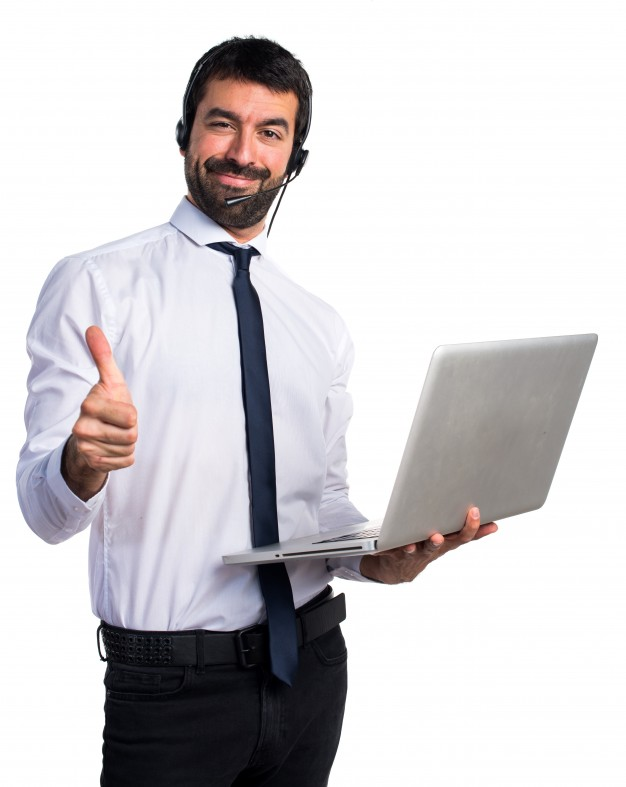thumbsup: (72, 325, 138, 472)
